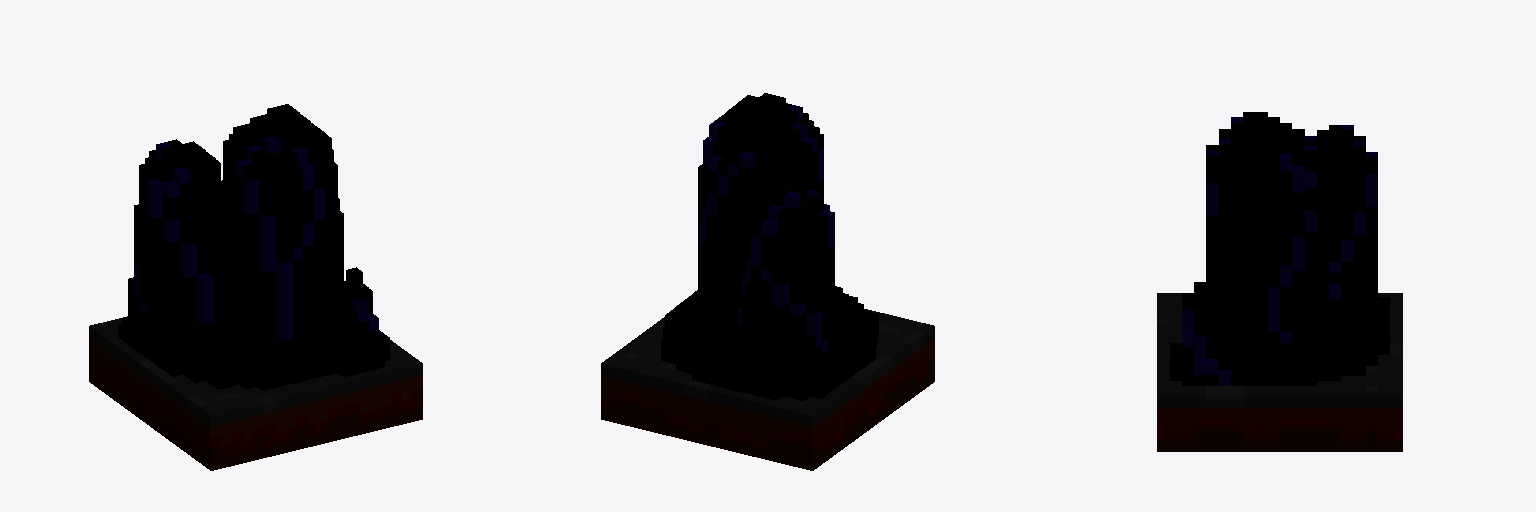
Rendered from obsisian.obj.
3 views of the same model, side by side, from view 1: azimuth 30°, elevation 25°; view 2: azimuth 150°, elevation 25°; view 3: azimuth 270°, elevation 25° (orthographic).
Parts seen in each view (by area): view 1: obsidian; view 2: obsidian; view 3: obsidian.
Boxes of the visible parts, box(x1,y1,x2,y2) form: obsidian: box(89, 104, 422, 470); obsidian: box(601, 93, 934, 470); obsidian: box(1157, 112, 1402, 451).
Size of the model in its own units: 1 by 1.3 by 1.